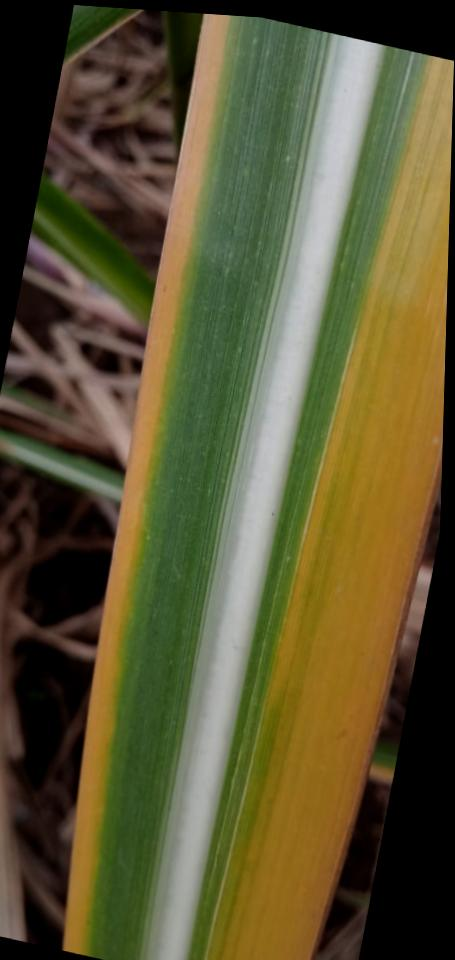Yellow: (204, 55, 454, 960), (62, 14, 230, 955)
